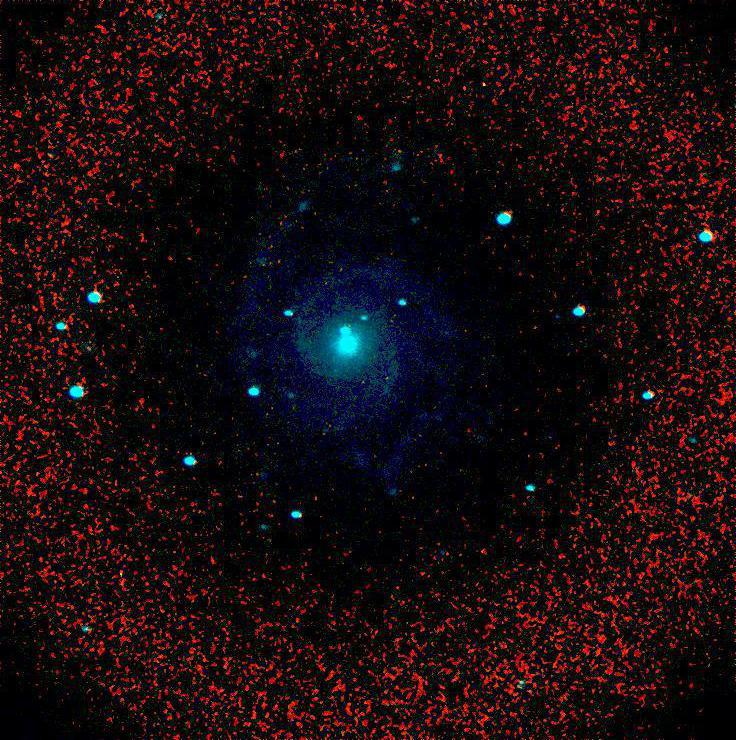star: (512, 418, 542, 448)
